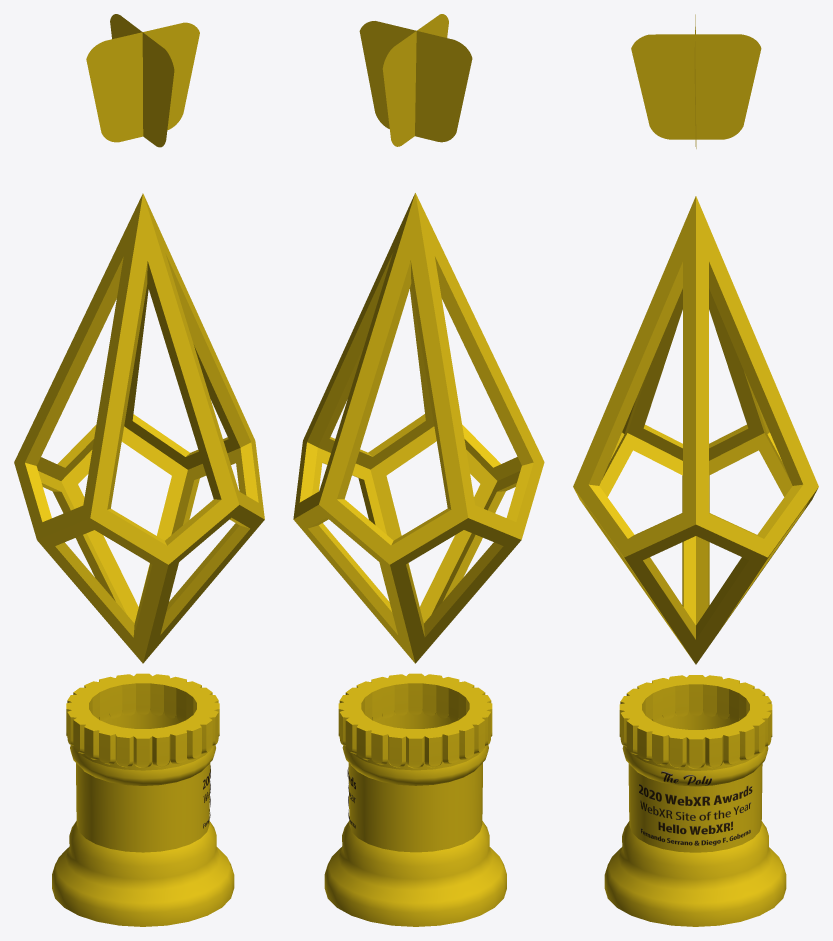
The model's file is 16ae2b7e-6711-4841-bd19-ebdcce8d95c6_SOTY.glb.
3 views of the same model, side by side, from view 1: azimuth 30°, elevation 25°; view 2: azimuth 150°, elevation 25°; view 3: azimuth 270°, elevation 25° (orthographic).
Visible parts, largest first — view 1: Diamond, Base, Crown; view 2: Diamond, Base, Crown; view 3: Diamond, Base, Crown, Engravings.
Part boxes in pixels (x1,y1,x2,y2): Diamond: [14, 193, 264, 663]; Base: [52, 673, 234, 926]; Crown: [86, 14, 199, 147]; Diamond: [293, 193, 544, 663]; Base: [324, 673, 506, 926]; Crown: [359, 14, 472, 146]; Diamond: [573, 196, 818, 664]; Base: [604, 675, 786, 926]; Crown: [631, 14, 761, 148]; Engravings: [639, 771, 752, 845].
Size of the model in its own units: 0.6616 by 2.48 by 0.6471.
Materials: 3 (2 with a texture image).
